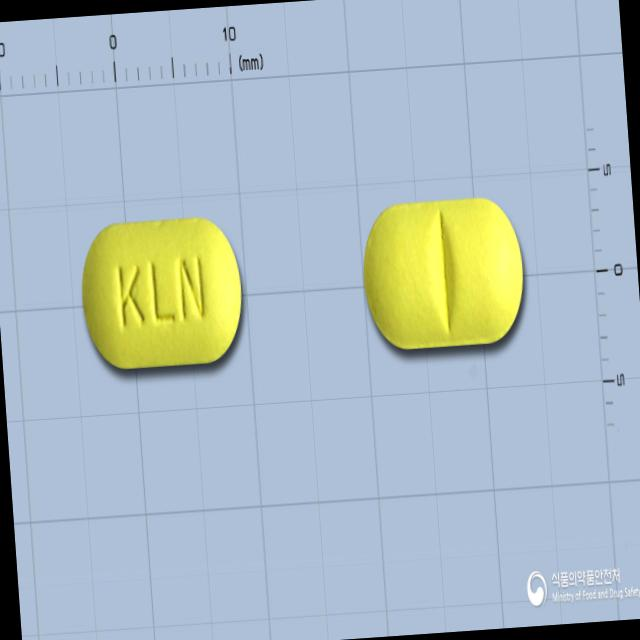Clarith: (74, 211, 248, 378), (357, 195, 530, 358)
